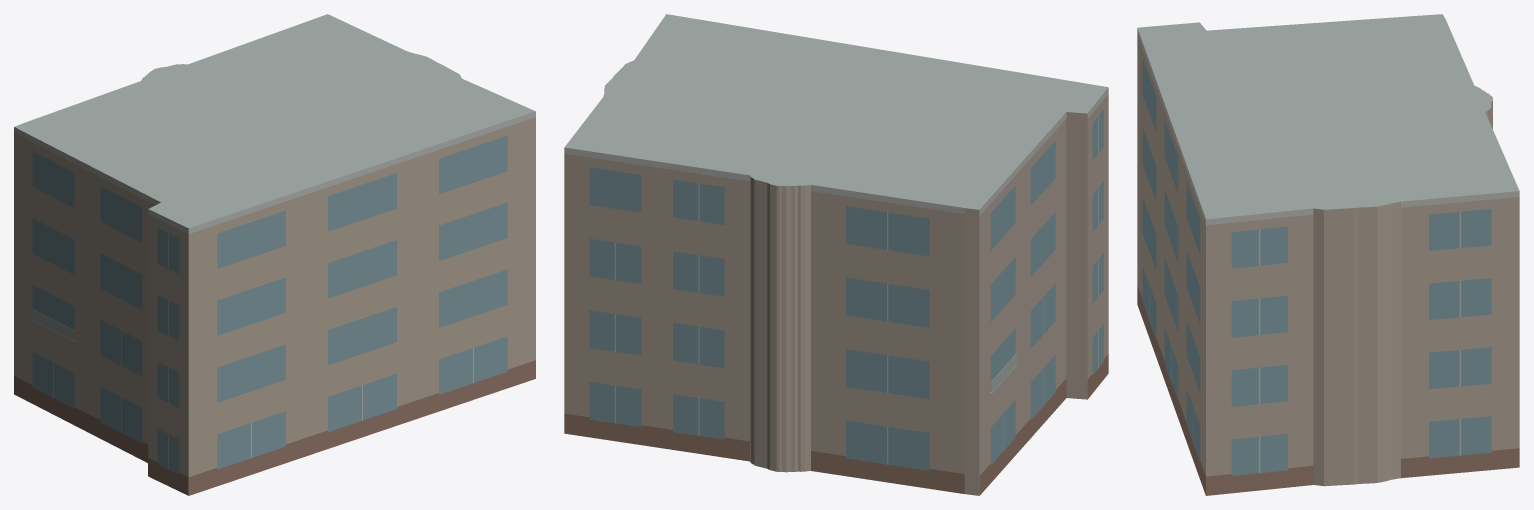
File: survey-upis-32919335.glb
3 views of the same model, side by side, from view 1: azimuth 30°, elevation 25°; view 2: azimuth 150°, elevation 25°; view 3: azimuth 270°, elevation 25° (orthographic). The views are drawn at different scales.
Visible parts, largest first — view 1: survey-upis-32919335.tmp; view 2: survey-upis-32919335.tmp; view 3: survey-upis-32919335.tmp.
Boxes of the visible parts, box(x1,y1,x2,y2) form: survey-upis-32919335.tmp: box(14, 14, 535, 495); survey-upis-32919335.tmp: box(564, 14, 1108, 495); survey-upis-32919335.tmp: box(1137, 14, 1519, 495).
Bounding box in the file's own units: 17.94 × 11.25 × 14.11.
